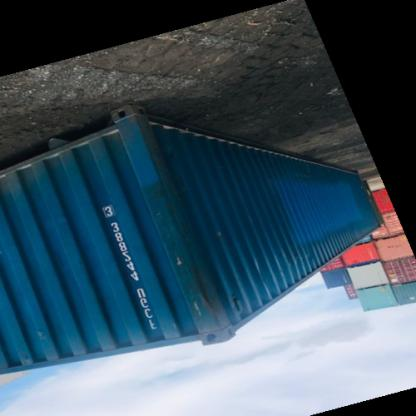Damage: (140, 121, 178, 224), (182, 262, 217, 333), (245, 257, 267, 281), (299, 258, 317, 268)
